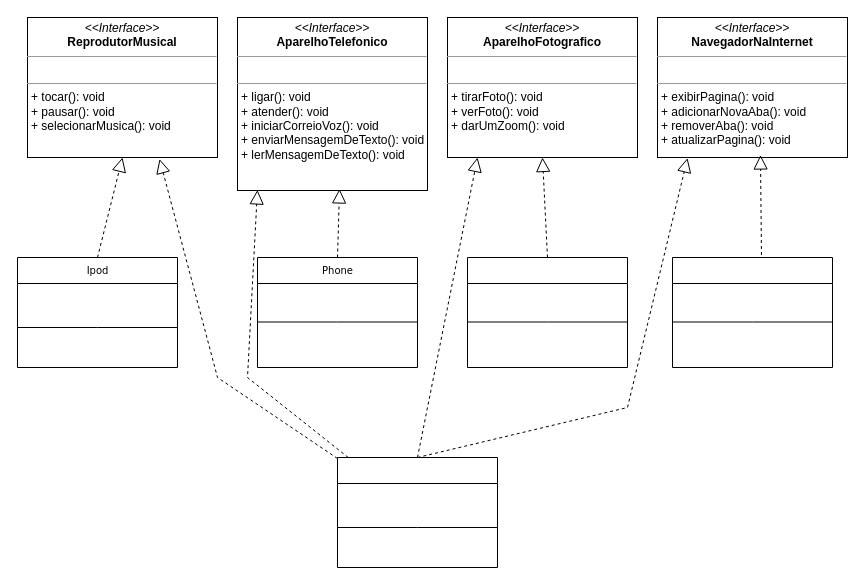
The diagram is 865 pixels wide and 585 high, and some of its shapes have lost their labels. The shapes that lost their labels are listed below. From the top down, each one's box as (x1, y1, x2, y2) in pixels, then its label:
(466, 256, 628, 368): CameraDigital
(672, 256, 832, 368): NavegadorDeInternet
(336, 456, 498, 568): Iphone
